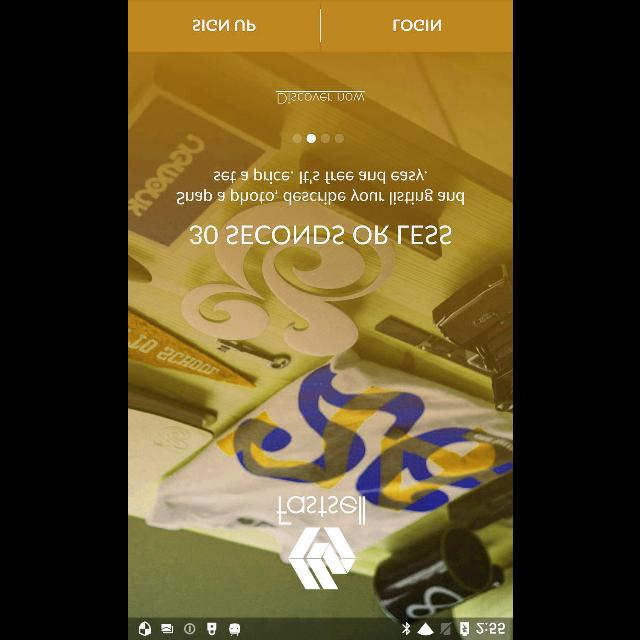backgroundimage: (128, 51, 512, 616)
image: (275, 496, 365, 590)
pageindicator: (292, 132, 344, 144)
text: (174, 168, 464, 206), (188, 224, 452, 246), (276, 90, 364, 104)
textbutton: (127, 1, 319, 52), (320, 1, 512, 52)
uppertaskbar: (128, 617, 512, 639)
